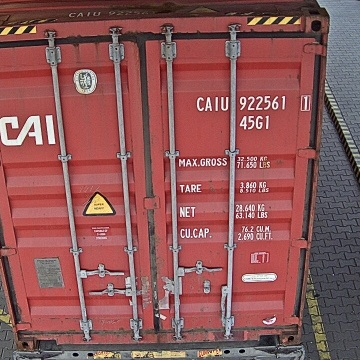serial_id: (197, 95, 310, 111)
